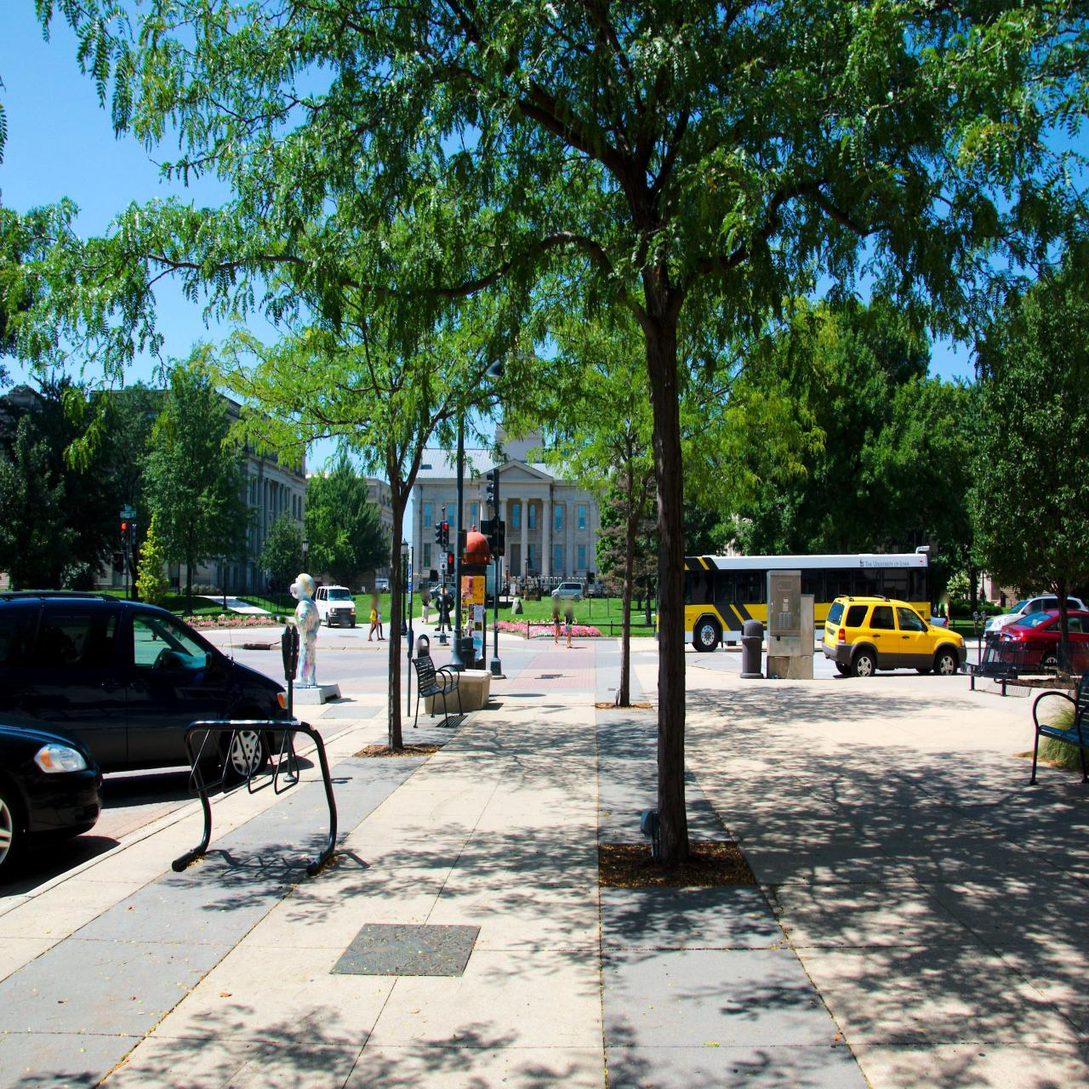bus: (657, 541, 937, 656)
